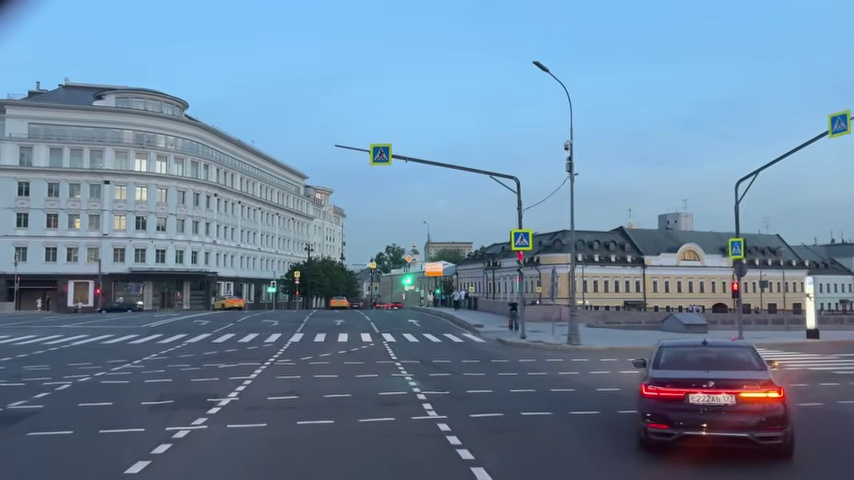apagada: (814, 112, 853, 145), (331, 138, 355, 156), (530, 57, 550, 76)
